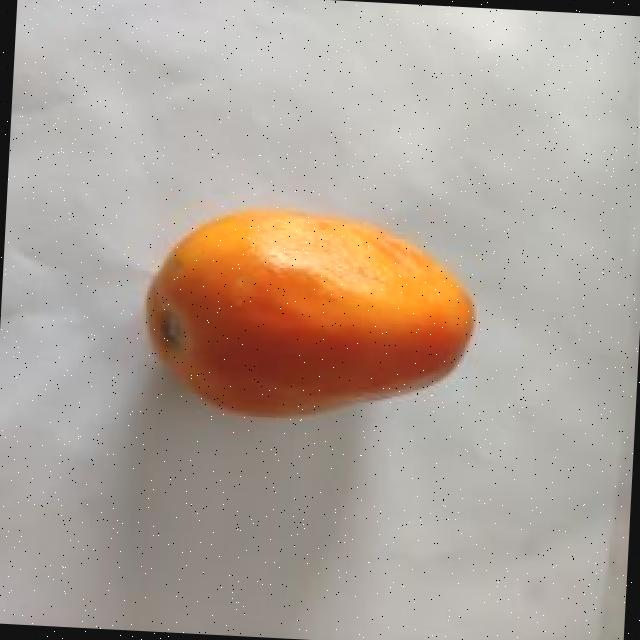Ripe: (140, 200, 485, 433)
